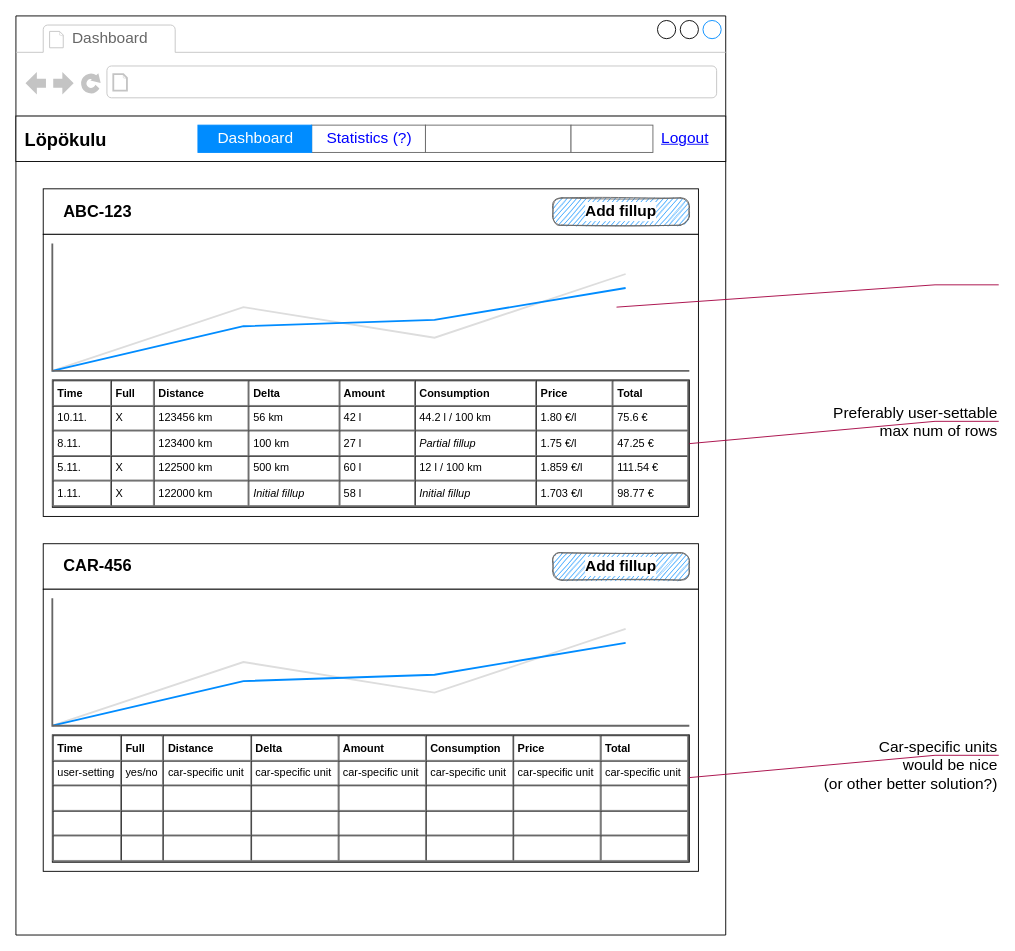
Image size: 1015x951. Some labels were removed from this diagram. The shapes that lost their labels are listed below. From the top down, each one's centre as x and y in pixels, then its label:
At (x=247, y=82): "lopokulu.domain.tld".
At (x=498, y=138): "Manage vehicles".
At (x=611, y=138): "Settings".
At (x=807, y=284): "Graph of calculated consumption and price per liter".
